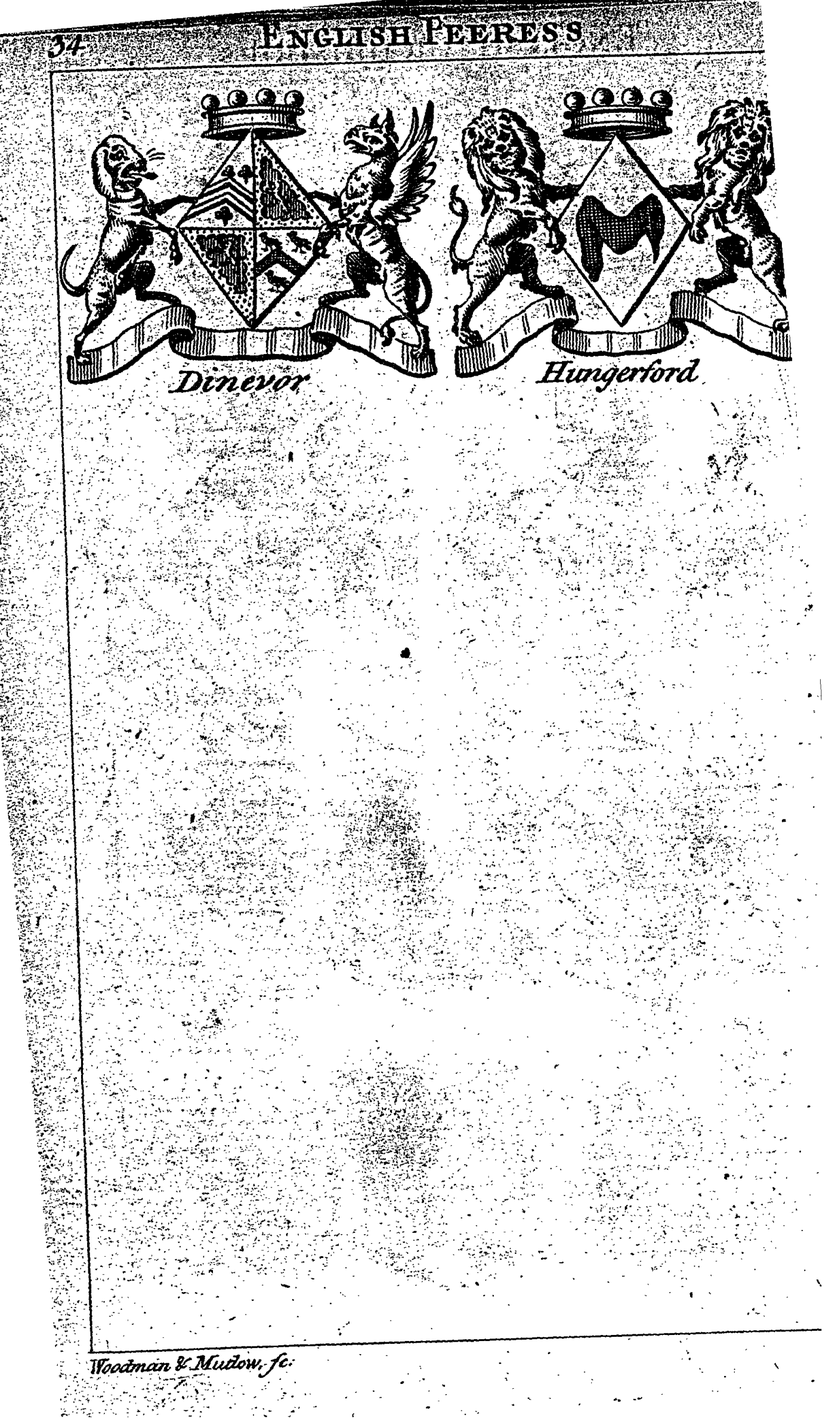coat_of_arms: (68, 81, 442, 389), (449, 79, 797, 390)
